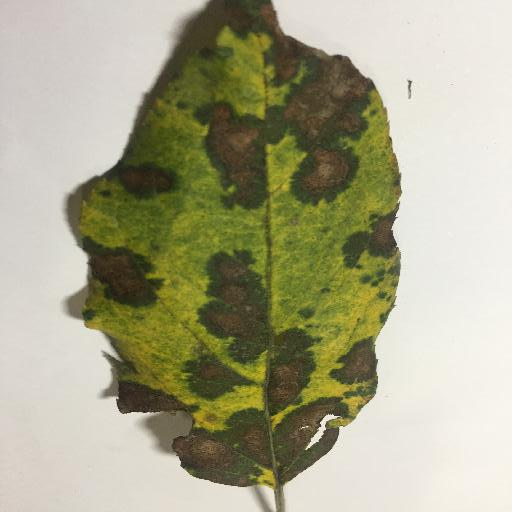Brown_Spot: (175, 403, 347, 478), (283, 68, 362, 197), (195, 257, 267, 362), (200, 97, 264, 215), (229, 1, 309, 78), (90, 246, 148, 302), (110, 161, 180, 199), (260, 347, 304, 402), (119, 383, 189, 416), (190, 364, 250, 396), (331, 343, 374, 385), (370, 218, 393, 255)
